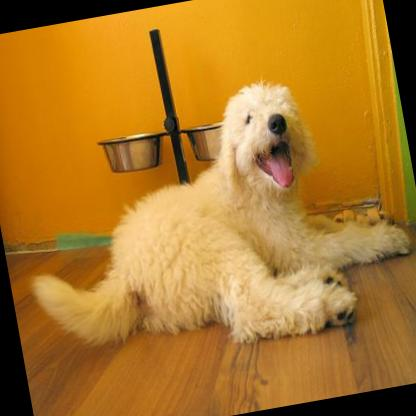komondor: (2, 56, 416, 393)
